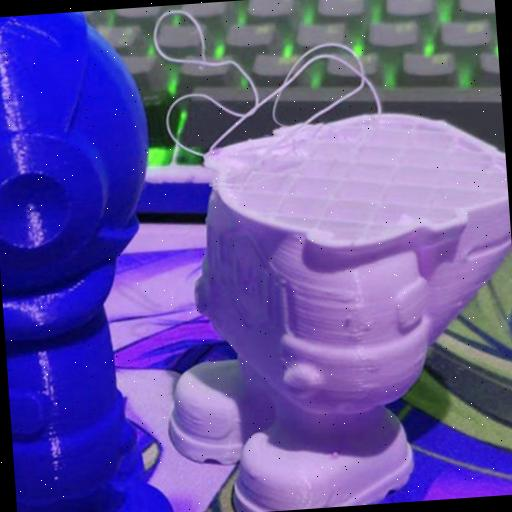spaghetti: (150, 0, 387, 164)
